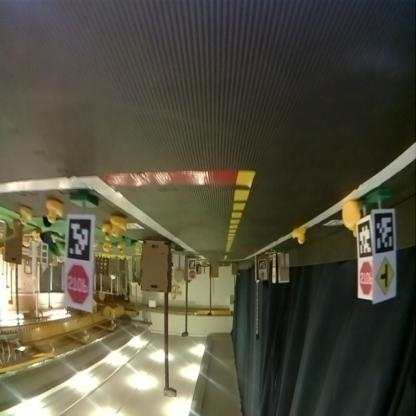Duckie: (341, 203, 360, 229), (46, 201, 63, 223), (291, 228, 306, 246), (110, 216, 123, 235), (101, 224, 112, 240), (19, 209, 31, 223), (117, 244, 123, 254)
Intersection sign: (374, 257, 394, 299)
QR code: (66, 218, 90, 262), (374, 212, 394, 254), (357, 220, 370, 256), (187, 260, 195, 270), (258, 260, 264, 270)
Stop sign: (67, 265, 90, 307), (360, 261, 372, 297), (188, 272, 195, 280)
